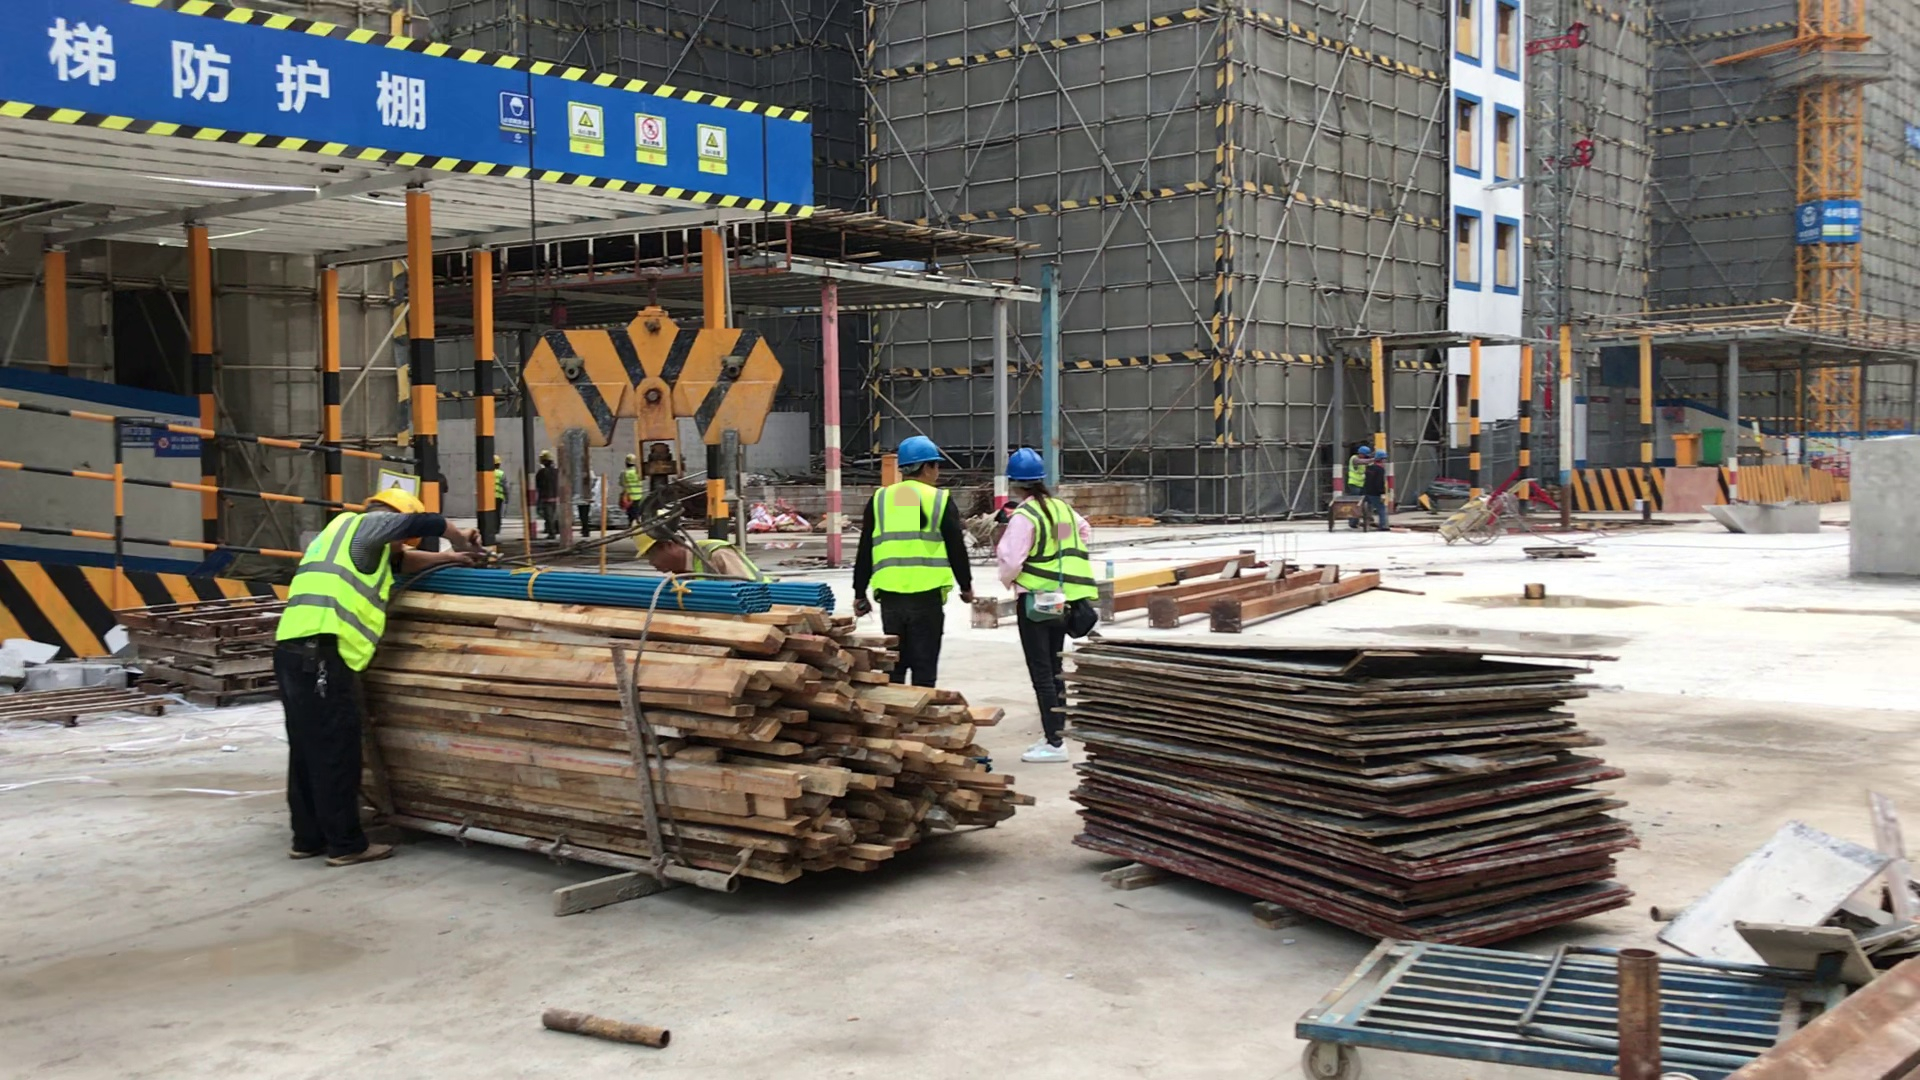board: (1066, 613, 1626, 958)
handcart: (1425, 476, 1544, 543)
helmet: (367, 489, 428, 530), (633, 523, 685, 557), (1006, 444, 1047, 481), (894, 436, 944, 466), (536, 449, 557, 467), (1356, 445, 1371, 458), (625, 454, 637, 469), (1371, 450, 1387, 461), (492, 453, 502, 471)
hook: (517, 306, 784, 446)
hopper: (1707, 489, 1827, 543)
person: (269, 485, 419, 867), (985, 445, 1106, 764), (847, 435, 977, 687), (645, 531, 755, 576), (531, 449, 561, 538), (616, 453, 645, 529), (1368, 452, 1396, 528), (1343, 444, 1369, 496), (490, 455, 508, 533)
vest: (285, 515, 391, 654), (871, 486, 952, 600), (1021, 498, 1099, 613), (693, 538, 756, 579), (620, 470, 641, 500), (1348, 455, 1365, 486), (496, 470, 505, 500)
wood: (373, 534, 1012, 916)
